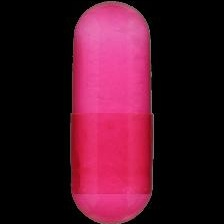53808-0238: (0, 0, 224, 224)
